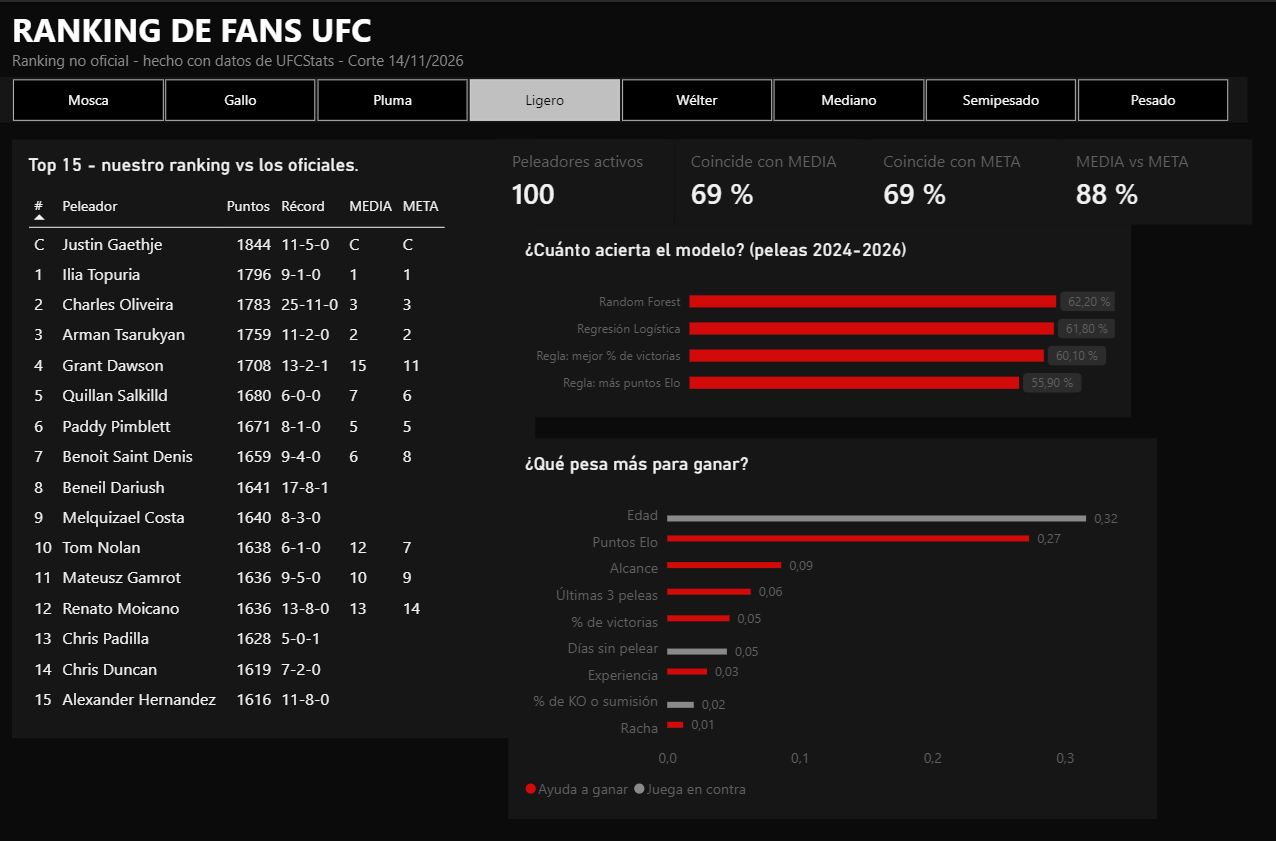

This screenshot's page, from the dashboard's own definition file:
{"tool":"powerbi","page":{"name":"Tablero","canvas":[1920,1080],"ordinal":0},"visuals":[{"type":"textbox","box":[20,5,700,70],"z":0},{"type":"slicer","fields":{"Values":["Categorias.division"]},"box":[0,74.3,1240,45],"z":1000},{"type":"tableEx","title":"Top 15 - nuestro ranking vs los oficiales.","fields":{"Values":["Ranking.puesto","Ranking.peleador","Ranking.elo","Ranking.record","Ranking.media","Ranking.meta"]},"box":[19.4,135.7,516.8,591.1],"z":2000},{"type":"cardVisual","fields":{"Data":["CountNonNull(Ranking.peleador)"]},"box":[497.4,135.7,176,84],"z":3000},{"type":"cardVisual","fields":{"Data":["Avg(Coincidencias.pct_coinciden)"]},"box":[673.5,135.7,190.6,84],"z":4000},{"type":"cardVisual","fields":{"Data":["Avg(Coincidencias.pct_coinciden)"]},"box":[864.1,135.7,190.6,84],"z":5000},{"type":"cardVisual","fields":{"Data":["Avg(Coincidencias.pct_coinciden)"]},"box":[1054.6,135.7,190.6,84],"z":6000},{"type":"clusteredBarChart","title":"¿Cuánto acierta el modelo? (peleas 2024-2026)","fields":{"Category":["Modelo.nombre"],"Y":["Sum(Modelo.accuracy)"]},"box":[510.4,219.7,615,190],"z":7000},{"type":"clusteredBarChart","title":"¿Qué pesa más para ganar?","fields":{"Category":["Variables.nombre"],"Series":["Variables.efecto"],"Y":["Sum(Variables.peso_absoluto)"]},"box":[510.4,431.2,641.2,376.3],"z":8000}]}

Visuals, with their boxes in screenshot pixels (x1, y1, x2, y2):
textbox: [x1=0, y1=27, x2=436, y2=74]
slicer - Categorias.division: [x1=0, y1=74, x2=789, y2=104]
"Top 15 - nuestro ranking vs los oficiales." tableEx: [x1=0, y1=115, x2=311, y2=517]
cardVisual - CountNonNull(Ranking.peleador): [x1=285, y1=115, x2=404, y2=173]
cardVisual - Avg(Coincidencias.pct_coinciden): [x1=404, y1=115, x2=534, y2=173]
cardVisual - Avg(Coincidencias.pct_coinciden): [x1=534, y1=115, x2=663, y2=173]
cardVisual - Avg(Coincidencias.pct_coinciden): [x1=663, y1=115, x2=793, y2=173]
"¿Cuánto acierta el modelo? (peleas 2024-2026)" clusteredBarChart: [x1=294, y1=173, x2=712, y2=302]
"¿Qué pesa más para ganar?" clusteredBarChart: [x1=294, y1=316, x2=729, y2=572]
